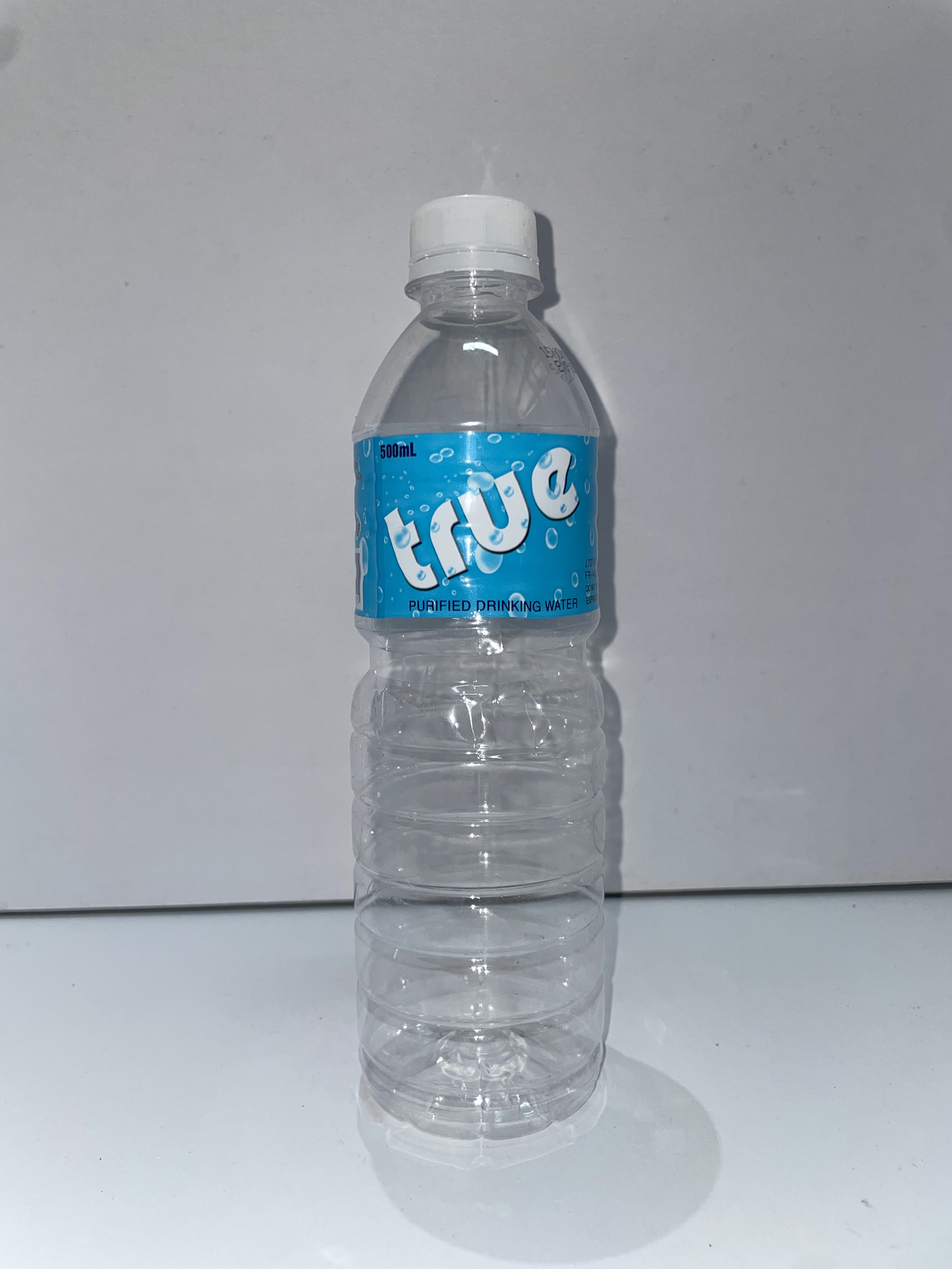True 500ml: (351, 196, 606, 1138)
